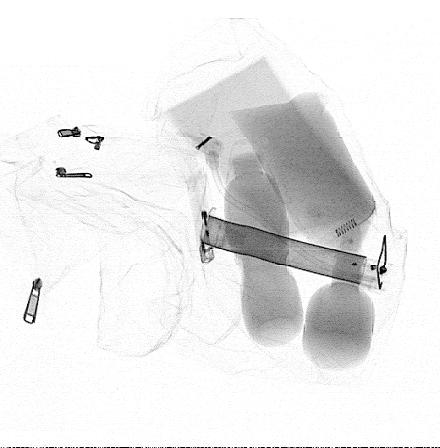Lighter: (185, 175, 216, 264)
